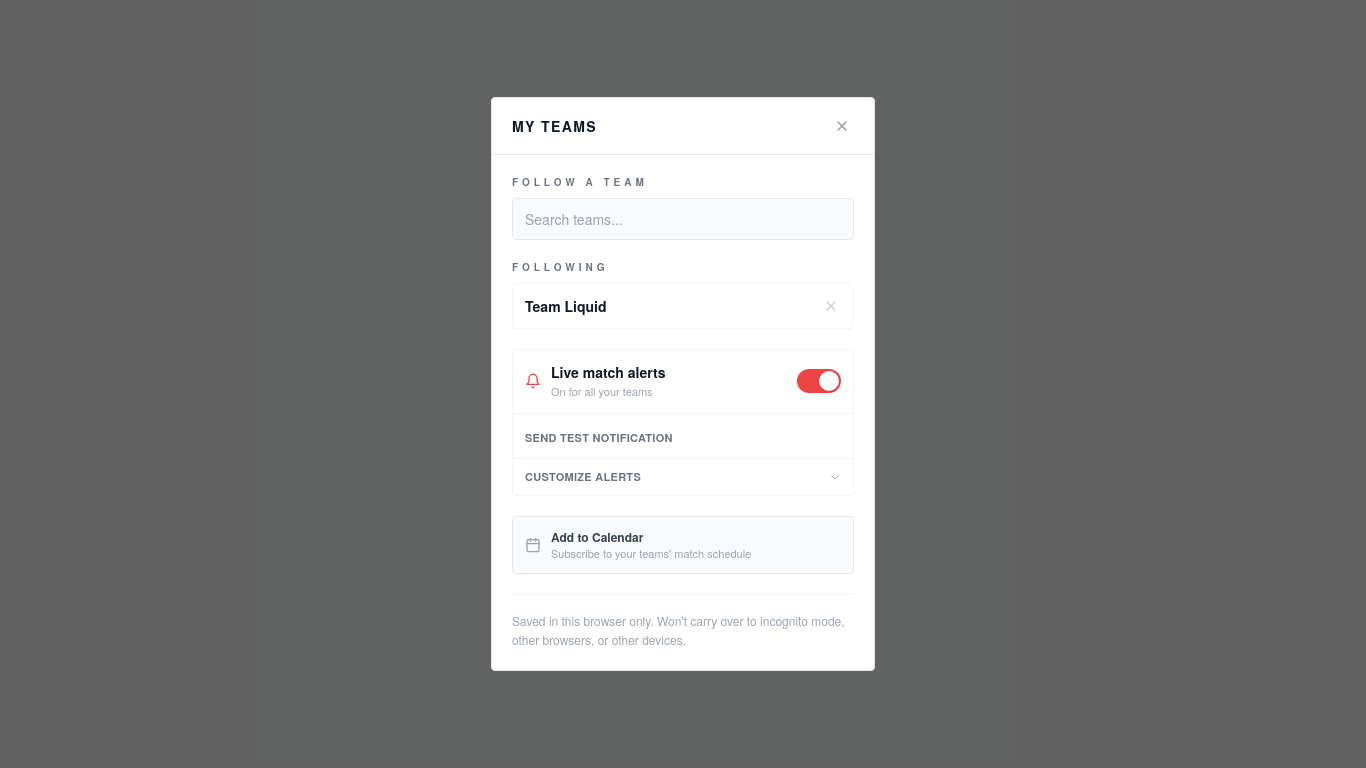
it: ManageTeamsModal - customize alerts › reopening the modal restores previously saved prefs from localStorage
The width and height of the screenshot is (1366, 768).
What coordinates should you click on to do the following:
click the button "Customize alerts"
I would click on:
 (583, 476)
Its box is 513,459 -> 853,495.
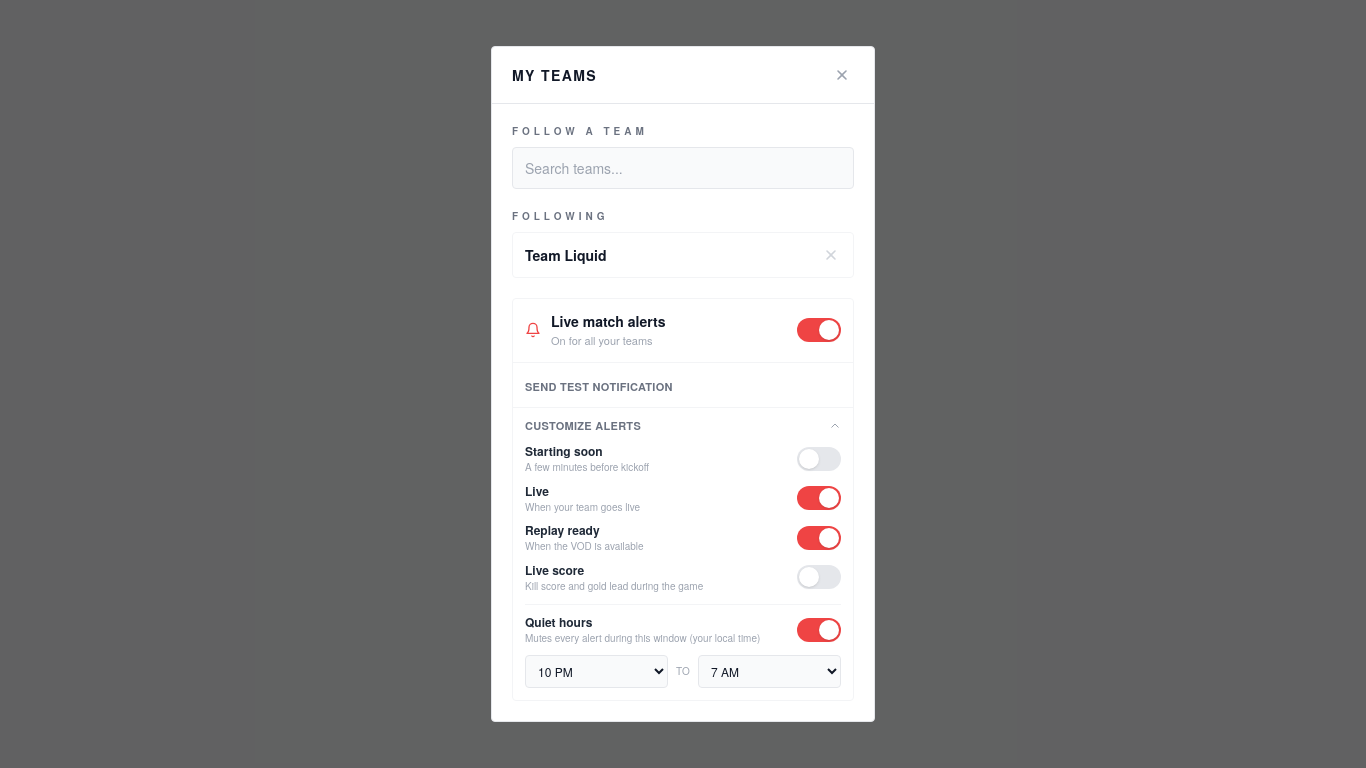
Expected: the dropdown named "Quiet hours start" shows "10 PM", 525,655 -> 668,688
